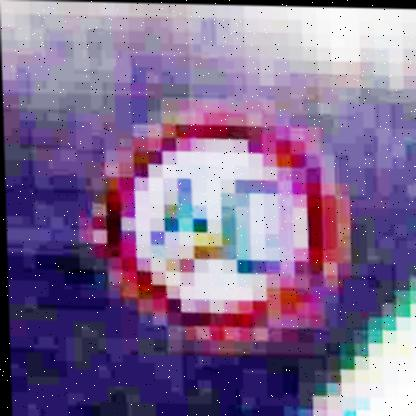Speed Limit -60-: (83, 97, 347, 342)
